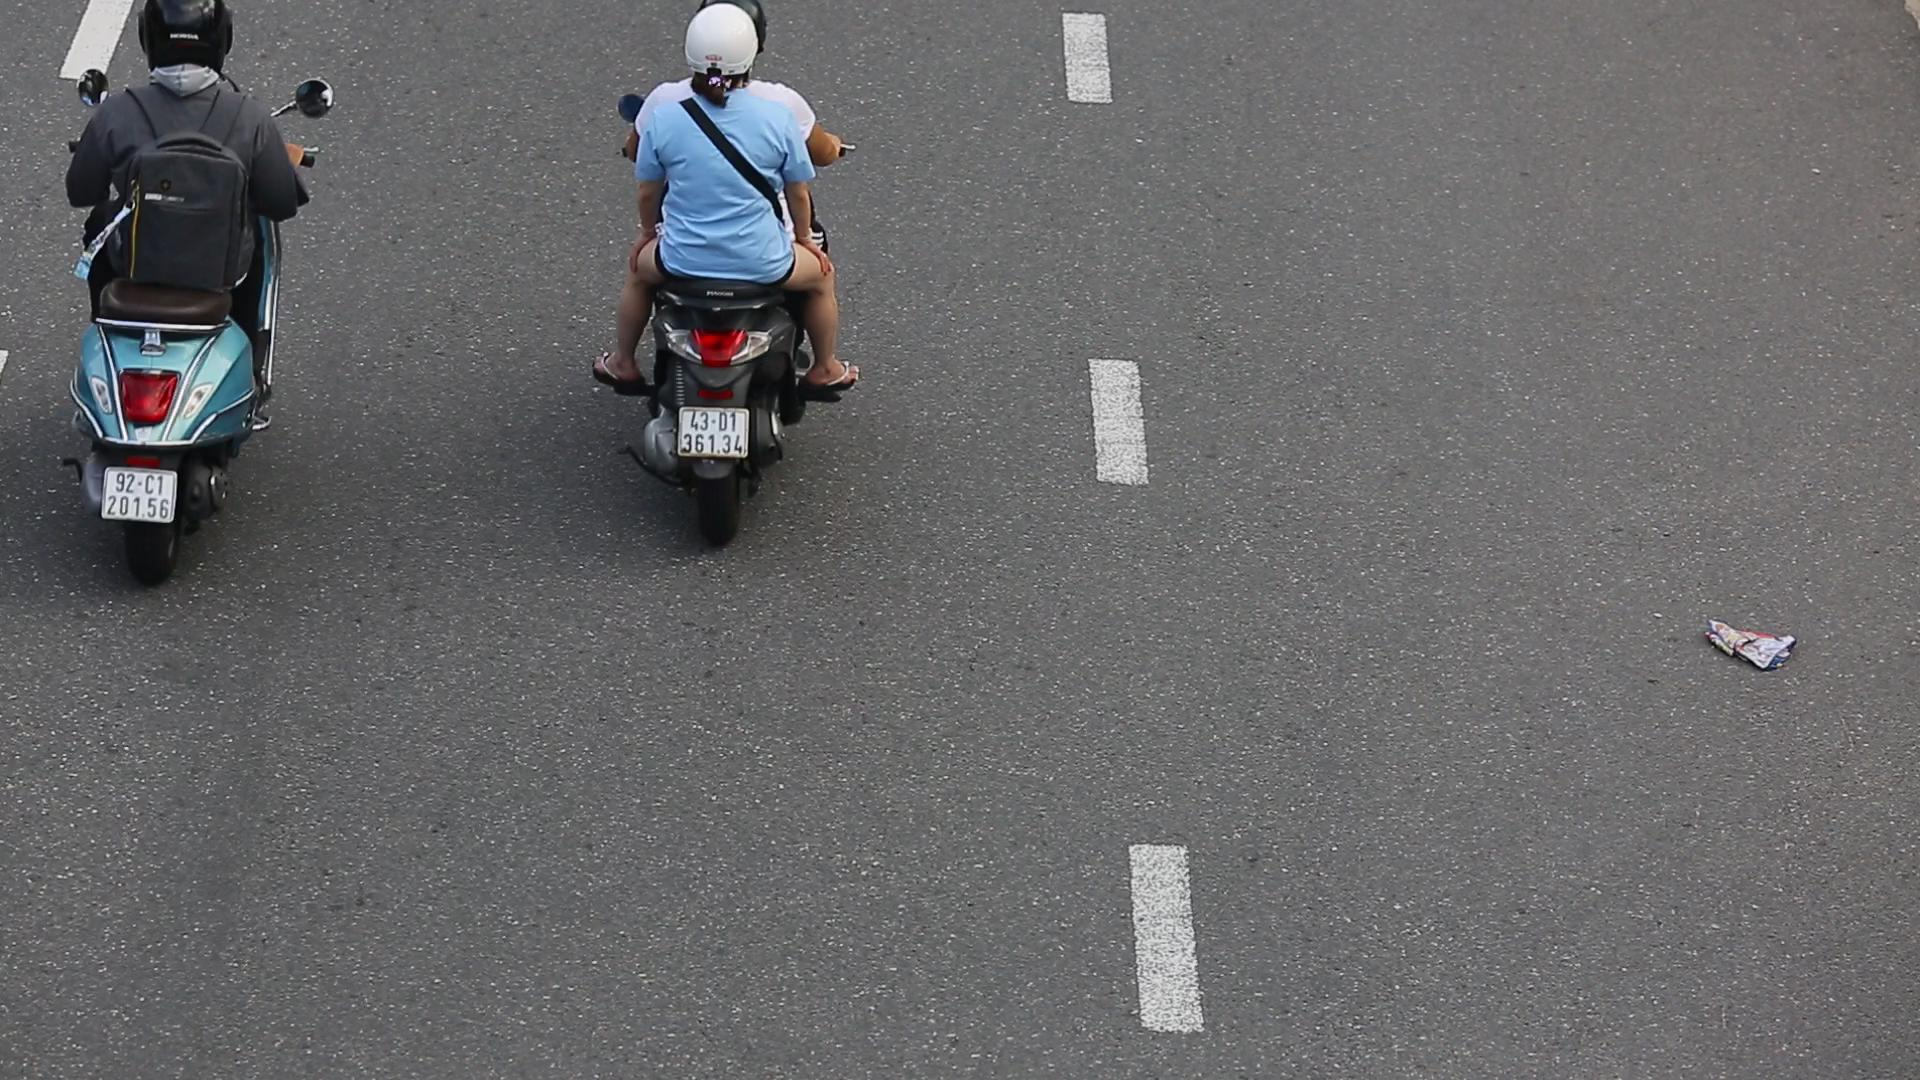motobike: (33, 0, 339, 587), (592, 1, 886, 560)
